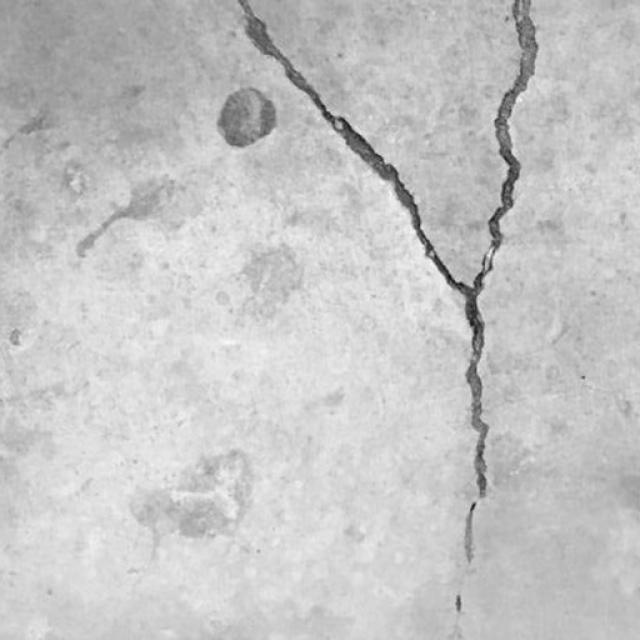SurfaceCrack: (185, 0, 578, 640)
